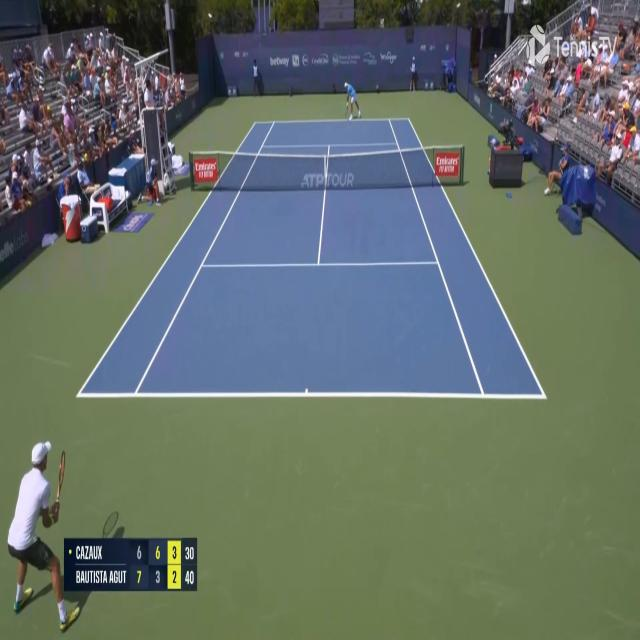tennis-player: (5, 434, 84, 636), (342, 77, 363, 123)
